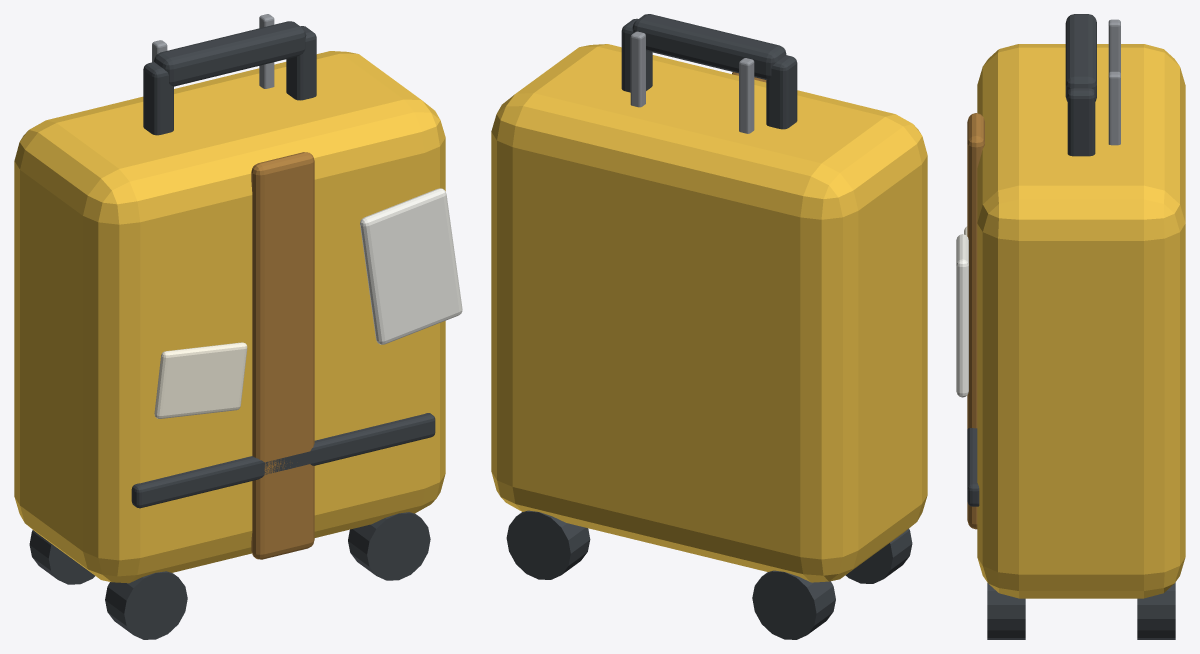
Rendered from npc-yellow.glb.
The picture shows the model from 3 angles, left to right: view 1: azimuth 30°, elevation 25°; view 2: azimuth 150°, elevation 25°; view 3: azimuth 270°, elevation 25°; orthographic projection.
Visible parts, largest first — view 1: Shell, Strap, Tag, LowerBand, Sticker, HandleTop, Wheel, Wheel.002, HandlePost, Wheel.001, HandlePost.001; view 2: Shell, HandleTop, Wheel.001, Wheel.003, HandlePost, Wheel, Rail, Rail.001, HandlePost.001; view 3: Shell, Strap, HandleTop, Tag, HandlePost.001, Wheel.003, Wheel.002, Rail.001, LowerBand, Rail.
Boxes of the visible parts, x1=… form: Shell: x1=14, y1=51, x2=445, y2=583; Strap: x1=251, y1=152, x2=314, y2=559; Tag: x1=360, y1=188, x2=462, y2=344; LowerBand: x1=131, y1=413, x2=435, y2=508; Sticker: x1=154, y1=342, x2=247, y2=418; HandleTop: x1=154, y1=21, x2=306, y2=86; Wheel: x1=105, y1=571, x2=187, y2=639; Wheel.002: x1=348, y1=512, x2=430, y2=580; HandlePost: x1=143, y1=62, x2=173, y2=135; Wheel.001: x1=29, y1=530, x2=94, y2=584; HandlePost.001: x1=286, y1=26, x2=316, y2=100; Shell: x1=491, y1=44, x2=927, y2=582; HandleTop: x1=632, y1=14, x2=786, y2=79; Wheel.001: x1=752, y1=570, x2=835, y2=639; Wheel.003: x1=506, y1=510, x2=590, y2=579; HandlePost: x1=766, y1=55, x2=797, y2=129; Wheel: x1=845, y1=529, x2=912, y2=583; Rail: x1=739, y1=58, x2=754, y2=133; Rail.001: x1=630, y1=31, x2=645, y2=107; HandlePost.001: x1=621, y1=18, x2=652, y2=92; Shell: x1=977, y1=44, x2=1185, y2=598; Strap: x1=967, y1=113, x2=984, y2=529; HandleTop: x1=1065, y1=14, x2=1096, y2=101; Tag: x1=956, y1=234, x2=968, y2=397; HandlePost.001: x1=1067, y1=88, x2=1095, y2=156; Wheel.003: x1=1137, y1=582, x2=1175, y2=639; Wheel.002: x1=987, y1=583, x2=1025, y2=639; Rail.001: x1=1108, y1=71, x2=1120, y2=145; LowerBand: x1=967, y1=428, x2=979, y2=506; Rail: x1=1108, y1=19, x2=1120, y2=73.
Size of the model in its own units: 1.18 by 1.69 by 0.66.
